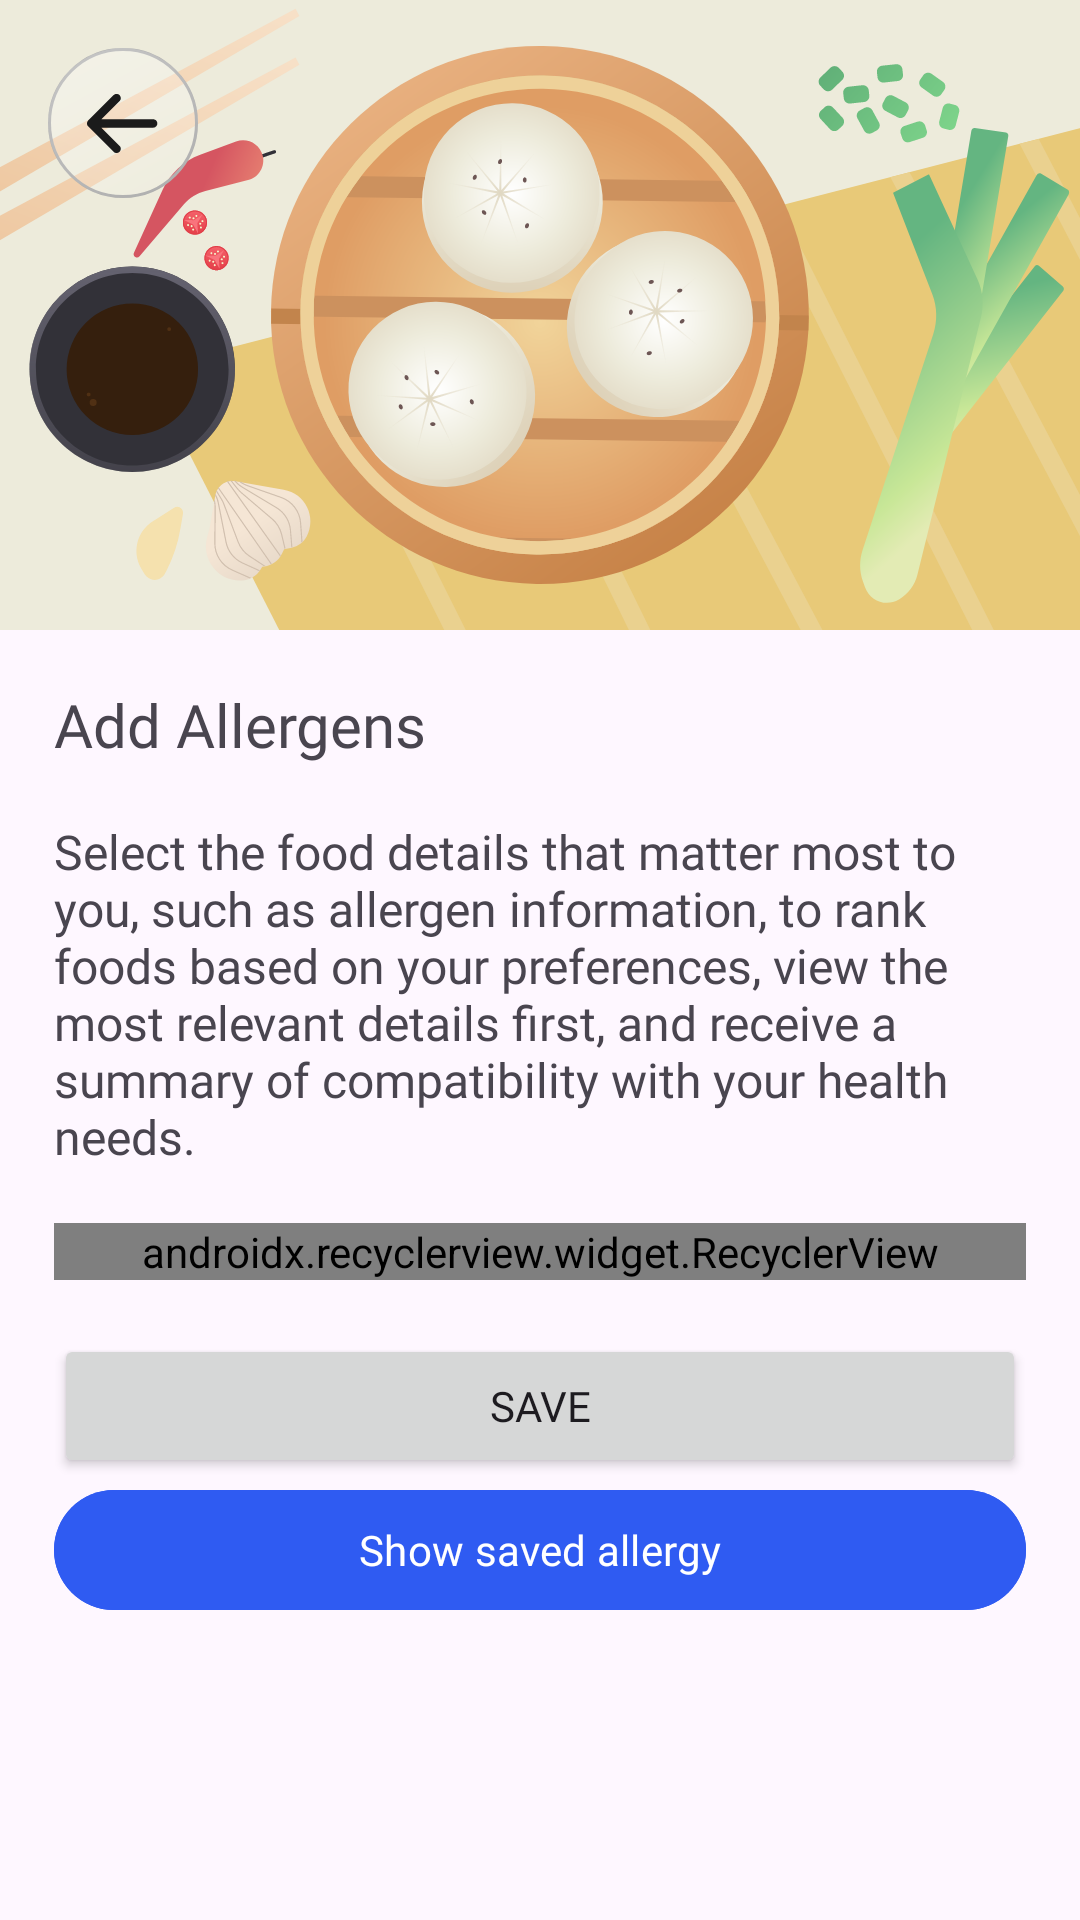

Point at icon controls on the screen. Image size 1080*1920, points as (x,y).
back: (123,123)
